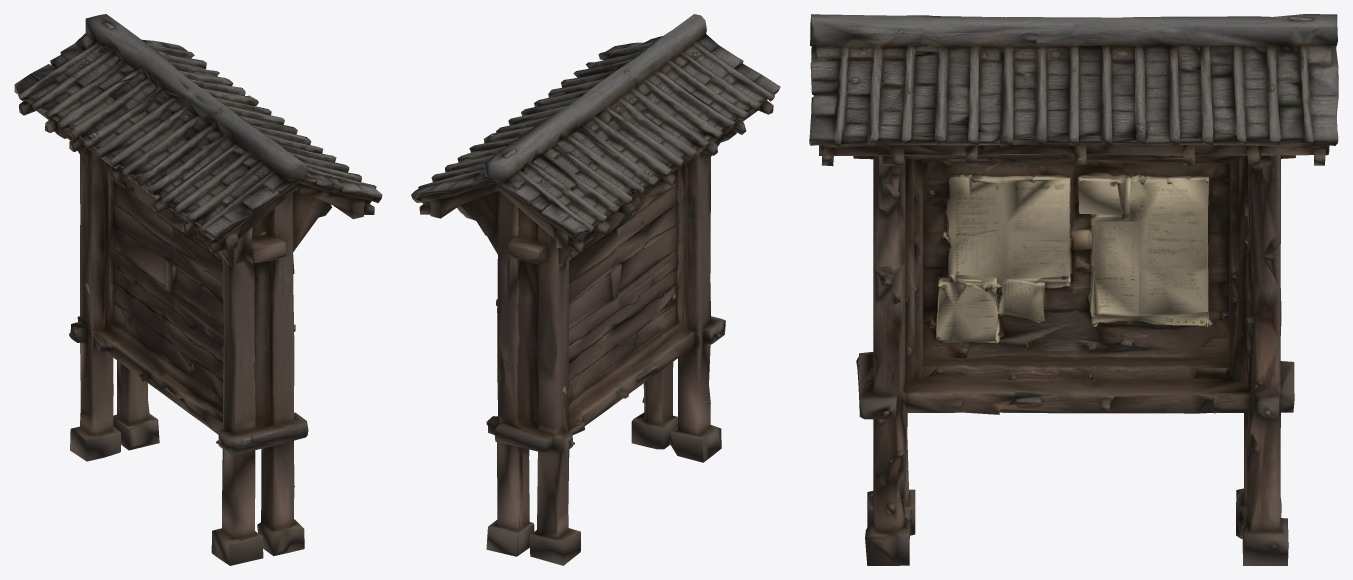
File: notice-board.glb
The picture shows the model from 3 angles, left to right: view 1: azimuth 30°, elevation 25°; view 2: azimuth 150°, elevation 25°; view 3: azimuth 270°, elevation 25°; orthographic projection. The views are drawn at different scales.
Parts seen in each view (by area): view 1: tripo_node_2f595671-9315-4b86-8b16-715bb642d92a; view 2: tripo_node_2f595671-9315-4b86-8b16-715bb642d92a; view 3: tripo_node_2f595671-9315-4b86-8b16-715bb642d92a.
Boxes of the visible parts, x1=… form: tripo_node_2f595671-9315-4b86-8b16-715bb642d92a: x1=14, y1=14, x2=382, y2=565; tripo_node_2f595671-9315-4b86-8b16-715bb642d92a: x1=411, y1=14, x2=780, y2=565; tripo_node_2f595671-9315-4b86-8b16-715bb642d92a: x1=809, y1=14, x2=1338, y2=565.
Bounding box in the file's own units: 0.448 × 0.9991 × 0.9023.
Materials: 1 (1 with a texture image).
